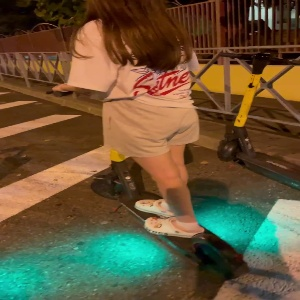human on a scooter: (45, 1, 252, 282)
